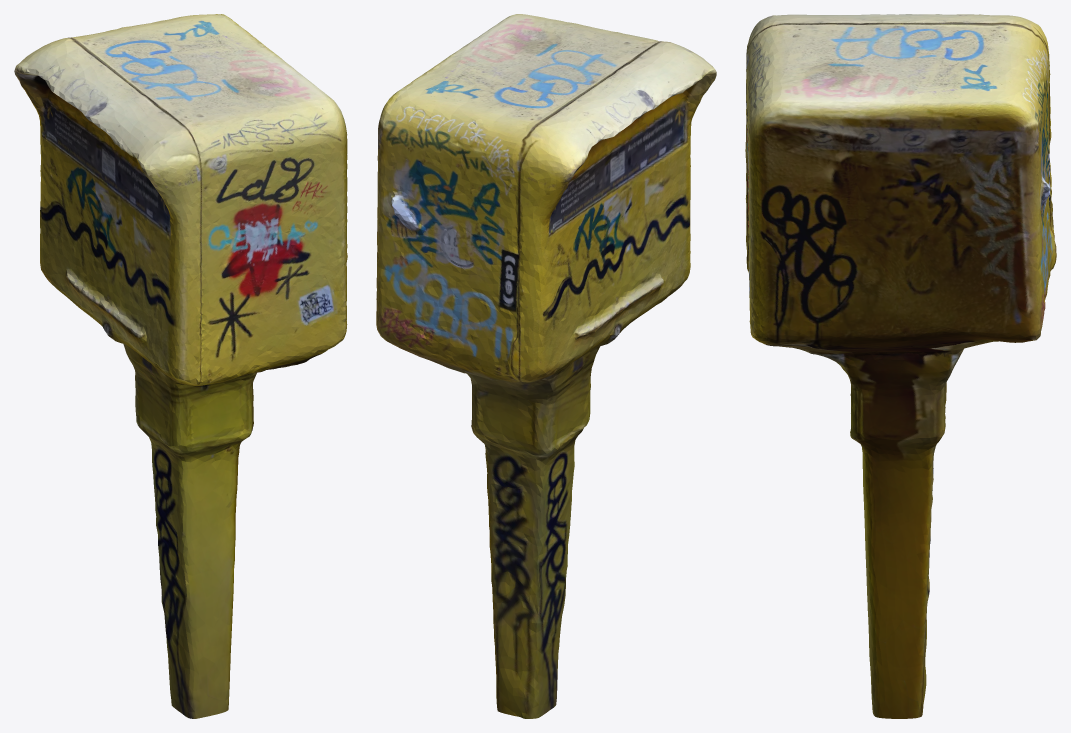
File: S044_AvignonPostbox.glb
The picture shows the model from 3 angles, left to right: view 1: azimuth 30°, elevation 25°; view 2: azimuth 150°, elevation 25°; view 3: azimuth 270°, elevation 25°; orthographic projection.
Visible parts, largest first — view 1: Mesh; view 2: Mesh; view 3: Mesh.
Part boxes in pixels (x1=…): Mesh: x1=14, y1=14, x2=347, y2=718; Mesh: x1=376, y1=14, x2=716, y2=718; Mesh: x1=745, y1=14, x2=1056, y2=718.
Size of the model in its own units: 0.2393 by 0.7016 by 0.3041.
1 material, 1 textured.
